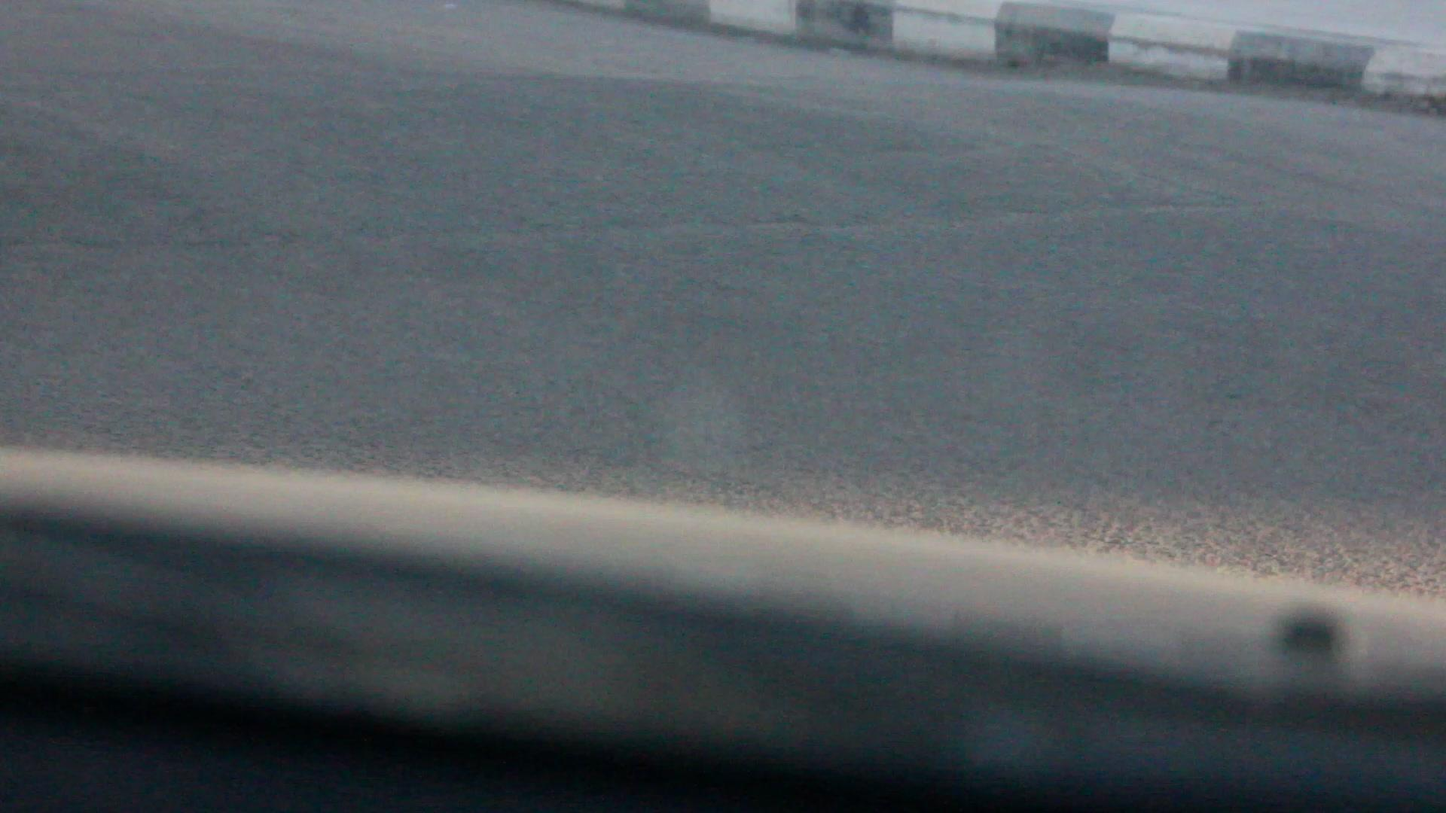Bump: (0, 55, 1446, 256)
